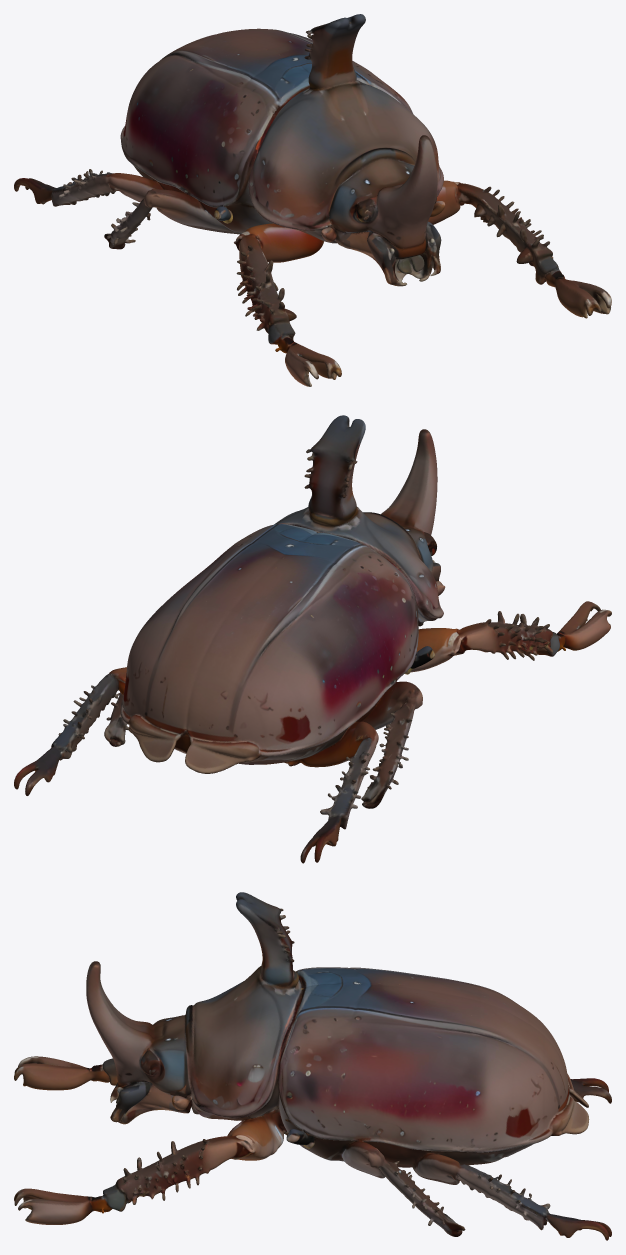
Rendered from RhinocerosBeetle.glb.
3 renders of one model, top to bottom at view 1: azimuth 30°, elevation 25°; view 2: azimuth 150°, elevation 25°; view 3: azimuth 270°, elevation 25°, orthographic.
Parts seen in each view (by area): view 1: tripo_node_f0f50892-fe52-4000-92ed-dc1a09e83577; view 2: tripo_node_f0f50892-fe52-4000-92ed-dc1a09e83577; view 3: tripo_node_f0f50892-fe52-4000-92ed-dc1a09e83577.
Boxes of the visible parts, box(x1,y1,x2,y2) form: tripo_node_f0f50892-fe52-4000-92ed-dc1a09e83577: box(14, 14, 611, 386); tripo_node_f0f50892-fe52-4000-92ed-dc1a09e83577: box(14, 415, 611, 863); tripo_node_f0f50892-fe52-4000-92ed-dc1a09e83577: box(14, 892, 611, 1240).
Size of the model in its own units: 0.591 by 0.5117 by 1.
Materials: 1 (1 with a texture image).
